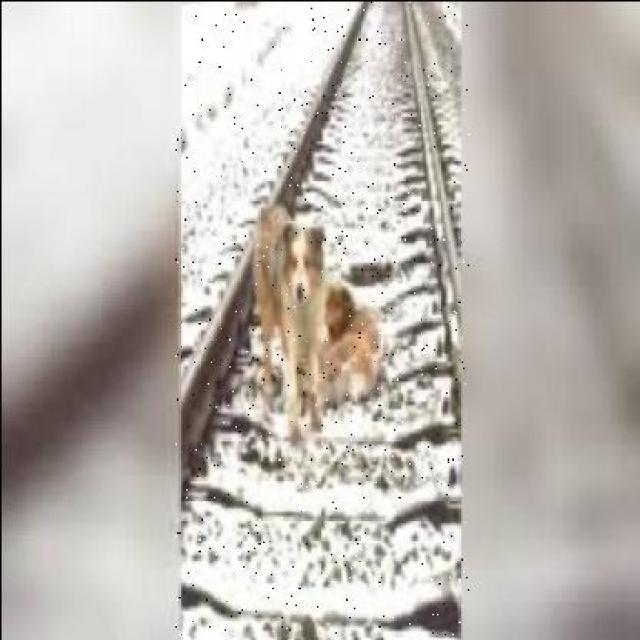danger: (243, 192, 400, 431)
rail: (175, 1, 468, 634)
